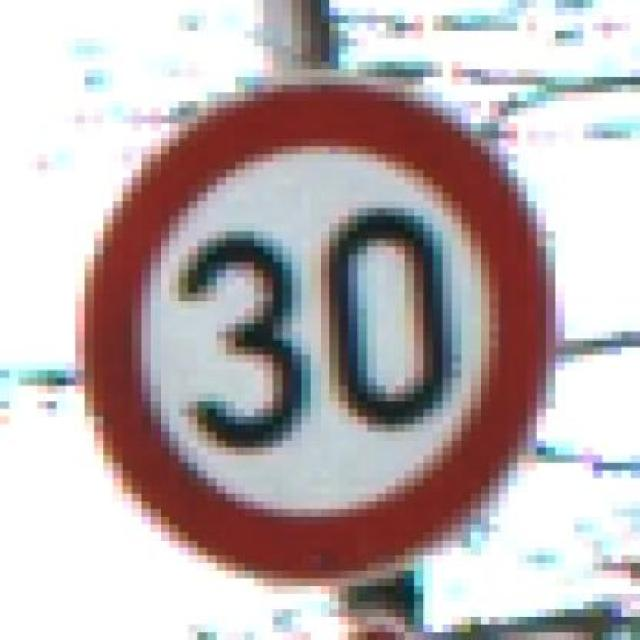Speed Limit 30 KMPh: (56, 70, 584, 578)
